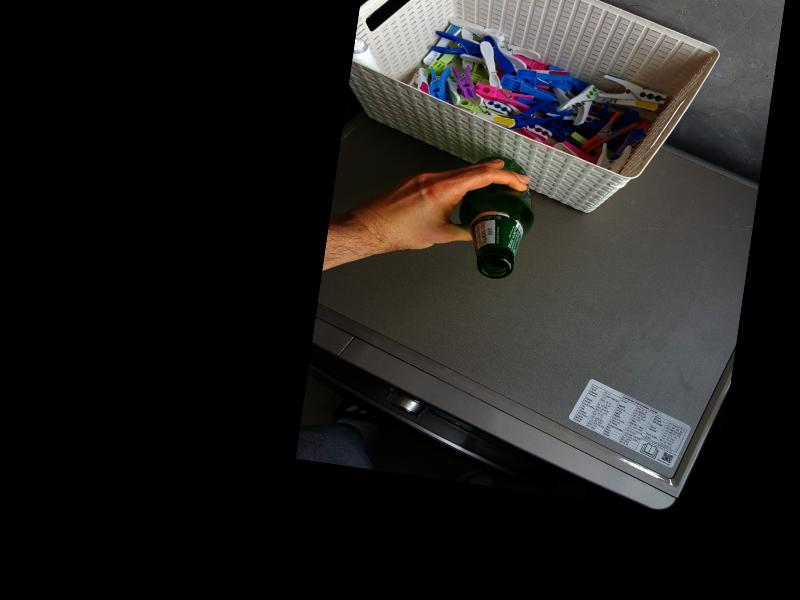Beer: (451, 153, 541, 283)
